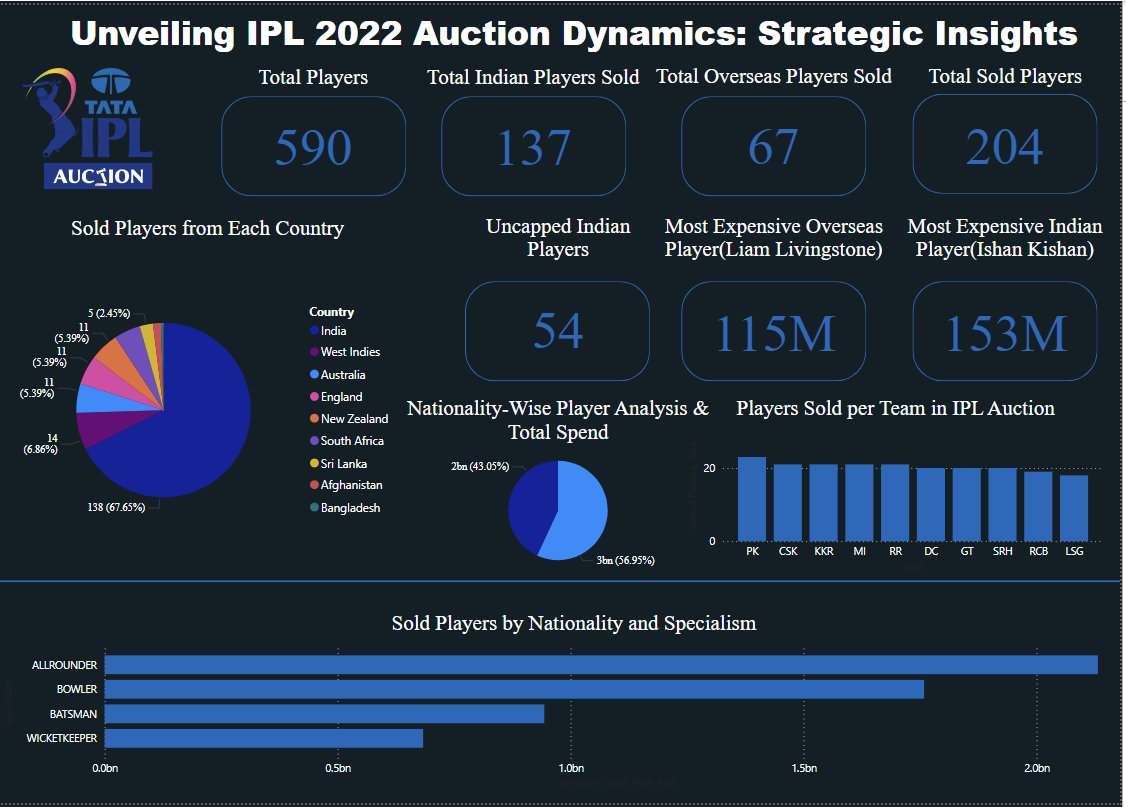

The page's visual inventory and layout, read from the dashboard file:
{"tool":"powerbi","page":{"name":"Page 1","canvas":[1280,913],"ordinal":0},"visuals":[{"type":"image","box":[0,67.8,200.7,148.4],"z":0},{"type":"textbox","box":[0,0,1311.6,67.8],"z":1000},{"type":"card","title":"Total Players","fields":{"Values":["24.Total_Count"]},"box":[257.1,68.6,201.4,150],"z":2000},{"type":"card","title":"Total Indian Players Sold","fields":{"Values":["2.Players"]},"box":[475.7,68.6,267.1,150],"z":3000},{"type":"card","title":"Total Overseas Players Sold","fields":{"Values":["3.Players"]},"box":[725.7,67.1,317.1,150],"z":4000},{"type":"pieChart","title":"Nationality-Wise Player Analysis & Total Spend","fields":{"Y":["4.Total_Price_Paid"],"Category":["4.Nationality"]},"box":[458.6,447.1,358.6,208.6],"z":5000},{"type":"clusteredBarChart","title":"Sold Players by Nationality and Specialism","fields":{"Category":["20.Specialism"],"Y":["20.Total_Price_Paid"]},"box":[0,692.9,1311.4,207.1],"z":6000},{"type":"card","title":"Total Sold Players","fields":{"Values":["24.Sold_Count"]},"box":[985.7,67.1,325.7,150],"z":7000},{"type":"clusteredColumnChart","title":"Players Sold per Team in IPL Auction","fields":{"Y":["10.Players_Sold"],"Category":["10.team"]},"box":[781.4,447.1,484.3,205.7],"z":8000},{"type":"card","title":"Most Expensive Overseas Player(Liam Livingstone)","fields":{"Values":["11.Price Paid"]},"box":[725.7,238.6,317.1,208.6],"z":9000},{"type":"pieChart","title":"Sold Players from Each Country","fields":{"Category":["13.Country"],"Y":["13.Players"]},"box":[15.7,241.4,442.9,417.1],"z":10000},{"type":"card","title":"Most Expensive Indian Player(Ishan Kishan)","fields":{"Values":["22.Price Paid"]},"box":[985.7,238.6,325.7,208.6],"z":11000},{"type":"card","title":"Uncapped Indian Players","fields":{"Values":["6.Players"]},"box":[532.9,238.6,210,201.4],"z":12000},{"type":"shape","box":[252.9,104.3,211.4,114.3],"z":12001},{"type":"shape","box":[504.3,104.3,211.4,114.3],"z":12002},{"type":"shape","box":[778.6,104.3,211.4,114.3],"z":12003},{"type":"shape","box":[1042.9,315.7,211.4,114.3],"z":12004},{"type":"shape","box":[778.6,315.7,211.4,114.3],"z":12005},{"type":"shape","box":[531.4,315.7,211.4,114.3],"z":12006},{"type":"shape","box":[1042.9,101.4,211.4,114.3],"z":12007},{"type":"shape","box":[0,508.6,1280,300],"z":12008}]}

Visuals, with their boxes in screenshot pixels (x1, y1, x2, y2), scaled from the page's 1280x913 canvas onto the 1126x807 screenshot:
image: l=0, t=60, r=177, b=191
textbox: l=0, t=0, r=1125, b=60
"Total Players" card: l=226, t=61, r=403, b=193
"Total Indian Players Sold" card: l=418, t=61, r=653, b=193
"Total Overseas Players Sold" card: l=638, t=59, r=917, b=192
"Nationality-Wise Player Analysis & Total Spend" pieChart: l=403, t=395, r=719, b=580
"Sold Players by Nationality and Specialism" clusteredBarChart: l=0, t=612, r=1125, b=796
"Total Sold Players" card: l=867, t=59, r=1125, b=192
"Players Sold per Team in IPL Auction" clusteredColumnChart: l=687, t=395, r=1113, b=577
"Most Expensive Overseas Player(Liam Livingstone)" card: l=638, t=211, r=917, b=395
"Sold Players from Each Country" pieChart: l=14, t=213, r=403, b=582
"Most Expensive Indian Player(Ishan Kishan)" card: l=867, t=211, r=1125, b=395
"Uncapped Indian Players" card: l=469, t=211, r=654, b=389
shape: l=222, t=92, r=408, b=193
shape: l=444, t=92, r=630, b=193
shape: l=685, t=92, r=871, b=193
shape: l=917, t=279, r=1103, b=380
shape: l=685, t=279, r=871, b=380
shape: l=467, t=279, r=653, b=380
shape: l=917, t=90, r=1103, b=191
shape: l=0, t=450, r=1125, b=715
